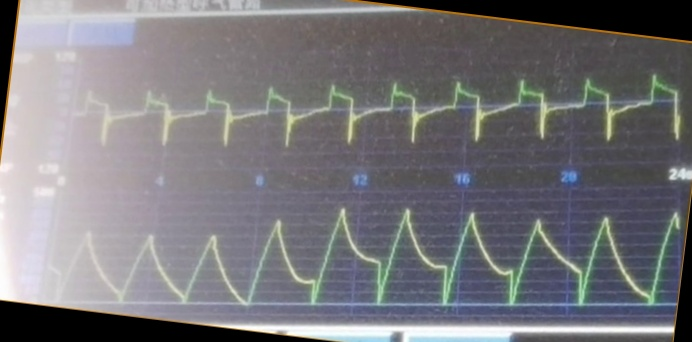Flow: (78, 55, 684, 158)
Leakage Volume: (56, 197, 675, 312)
